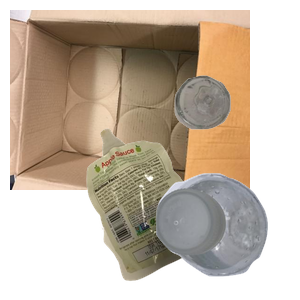cardboard: (10, 10, 250, 190)
glass: (172, 73, 300, 195)
plastic: (153, 170, 300, 300)
trash: (84, 126, 291, 300)
